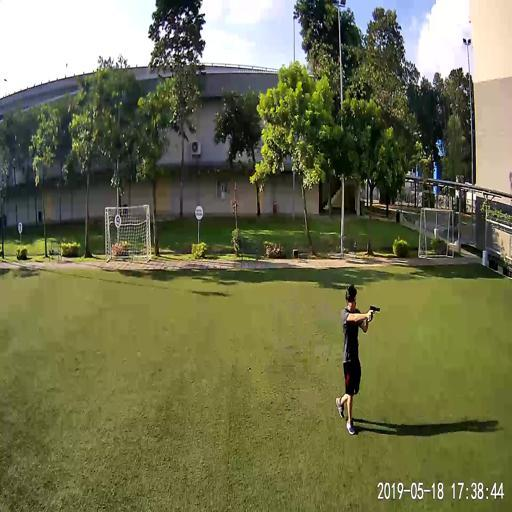Handgun: (367, 302, 379, 314)
